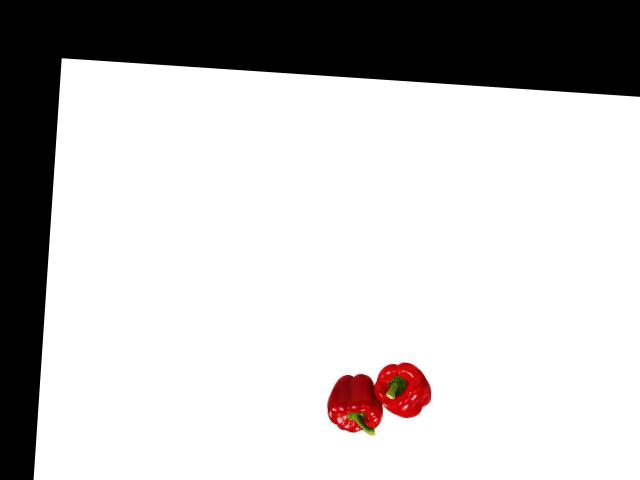bell_pepper: (323, 367, 387, 438)
